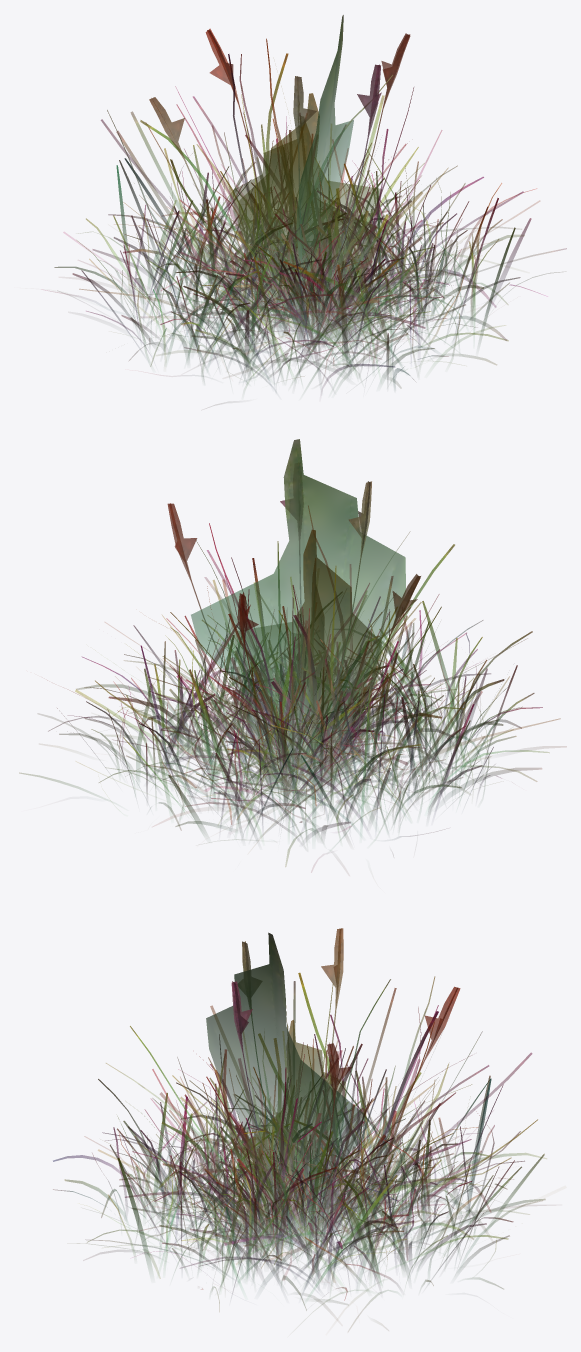
File: vlkhcbxia_tier_2.gltf
3 views of the same model, one above another, from view 1: azimuth 30°, elevation 25°; view 2: azimuth 150°, elevation 25°; view 3: azimuth 270°, elevation 25° (orthographic).
Parts seen in each view (by area): view 1: SM_vlkhcbxia_VarB, SM_vlkhcbxia_VarA, SM_vlkhcbxia_VarC, SM_vlkhcbxia_VarD, SM_vlkhcbxia_VarE, SM_vlkhcbxia_VarG, SM_vlkhcbxia_VarF, SM_vlkhcbxia_VarH; view 2: SM_vlkhcbxia_VarA, SM_vlkhcbxia_VarB, SM_vlkhcbxia_VarC, SM_vlkhcbxia_VarD, SM_vlkhcbxia_VarE, SM_vlkhcbxia_VarG, SM_vlkhcbxia_VarF, SM_vlkhcbxia_VarH; view 3: SM_vlkhcbxia_VarA, SM_vlkhcbxia_VarB, SM_vlkhcbxia_VarC, SM_vlkhcbxia_VarD, SM_vlkhcbxia_VarE, SM_vlkhcbxia_VarG, SM_vlkhcbxia_VarF, SM_vlkhcbxia_VarH.
Boxes of the visible parts, x1,y1,x2,y2 form: SM_vlkhcbxia_VarB: (45,115,559,391); SM_vlkhcbxia_VarA: (64,15,566,363); SM_vlkhcbxia_VarC: (58,143,520,387); SM_vlkhcbxia_VarD: (107,38,456,341); SM_vlkhcbxia_VarE: (122,163,448,337); SM_vlkhcbxia_VarG: (193,237,439,336); SM_vlkhcbxia_VarF: (143,193,446,345); SM_vlkhcbxia_VarH: (237,236,401,338); SM_vlkhcbxia_VarA: (80,439,560,828); SM_vlkhcbxia_VarB: (19,541,549,866); SM_vlkhcbxia_VarC: (68,592,566,827); SM_vlkhcbxia_VarD: (75,506,454,791); SM_vlkhcbxia_VarE: (165,593,448,832); SM_vlkhcbxia_VarG: (184,671,388,775); SM_vlkhcbxia_VarF: (225,614,407,797); SM_vlkhcbxia_VarH: (241,670,403,799); SM_vlkhcbxia_VarA: (84,928,532,1256); SM_vlkhcbxia_VarB: (53,1031,546,1329); SM_vlkhcbxia_VarC: (87,1056,545,1289); SM_vlkhcbxia_VarD: (130,972,537,1249); SM_vlkhcbxia_VarE: (175,1067,524,1274); SM_vlkhcbxia_VarG: (223,1135,393,1264); SM_vlkhcbxia_VarF: (141,1137,393,1250); SM_vlkhcbxia_VarH: (202,1154,407,1258).
Size of what is drawn, in the model's own units: 0.5745 by 0.4088 by 0.5613.
Materials: 1 (1 with a texture image).
